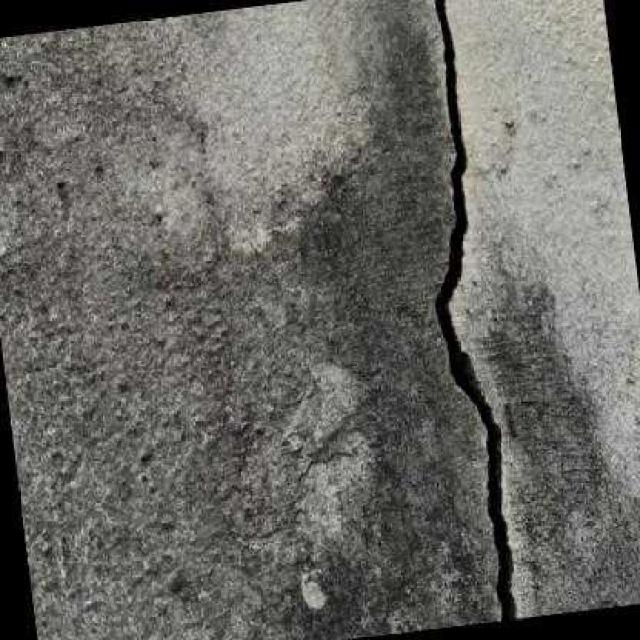D00: (433, 0, 520, 619)
